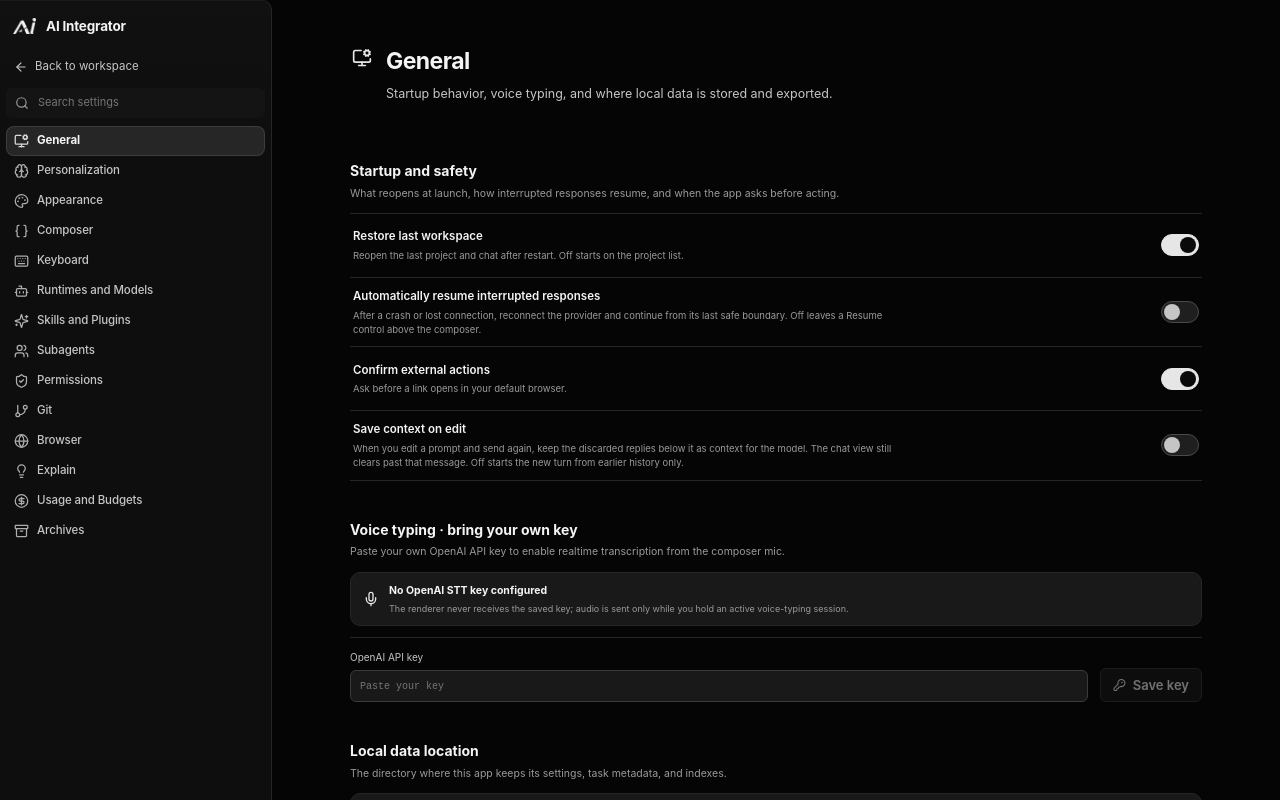
Scenario: Git settings › keeps every git decoration off until it is asked for
Click the button "Git": (136, 411) [6,396,265,426]
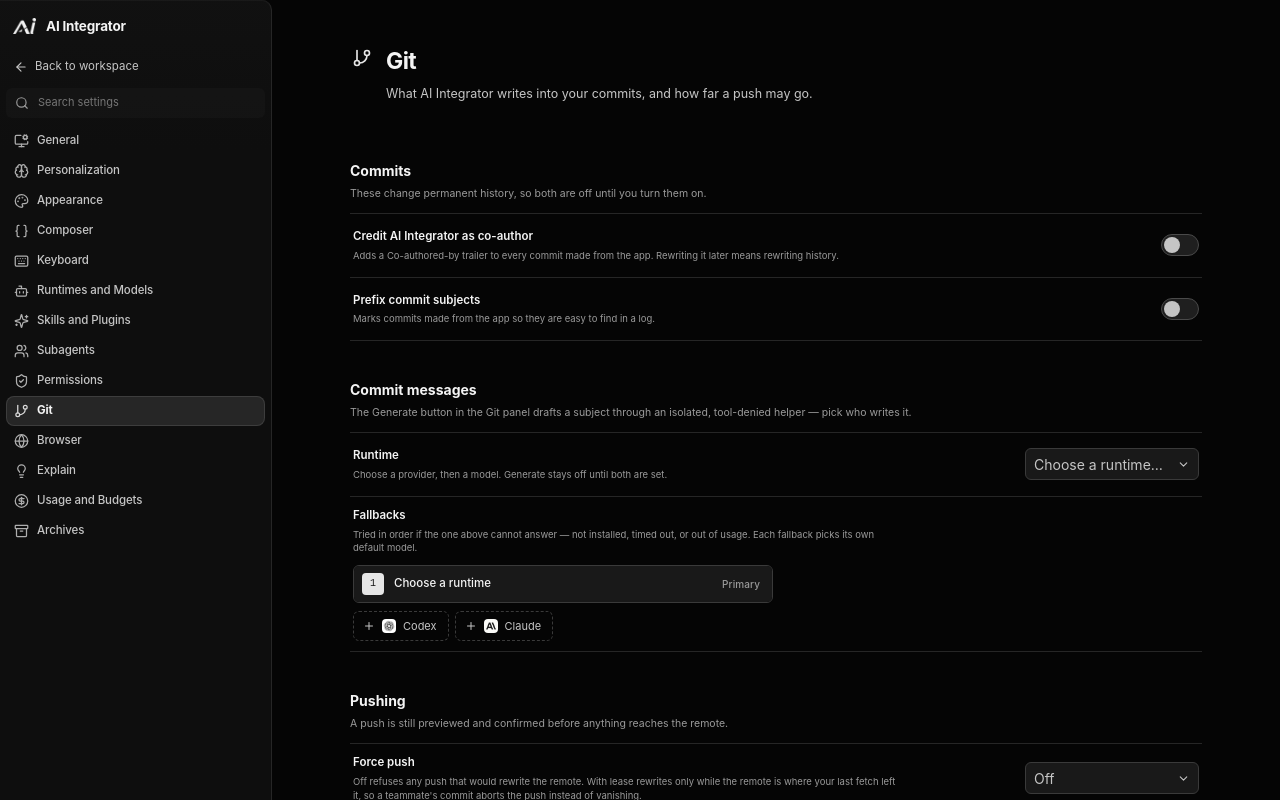
expect the heading "Git" is shown: met, box [386,47,416,75]
expect the button with aria-label "Force push" reads "Off": met, box [1025,762,1199,794]
